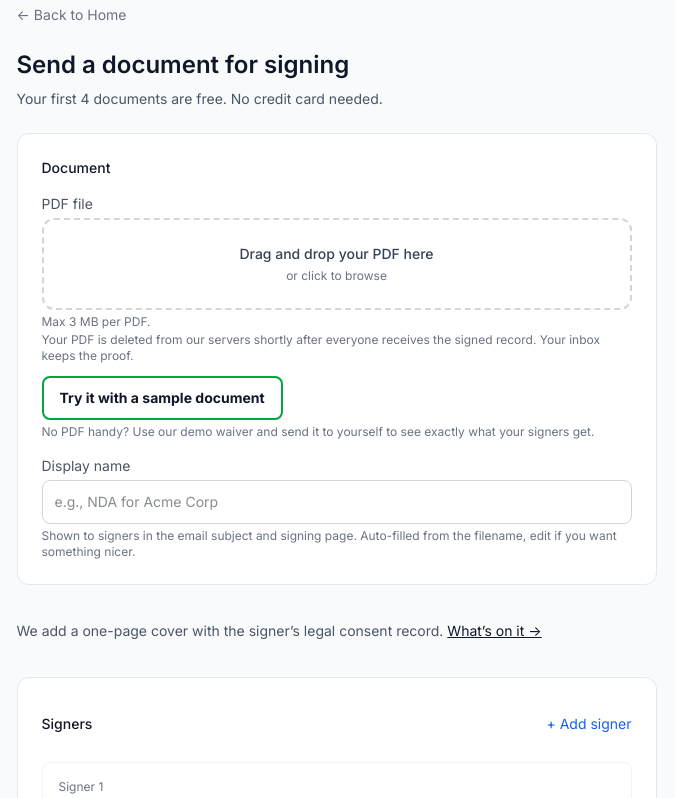
Test: CreateEnvelopePage — the sample-document path (F-44.2 / AC-262) › a failed fetch shows the standard inline error and never a dead button
(page scrolled)
Click the button "Try it with a sample document" at (162, 398), box top-left (42, 376), bottom-right (283, 420)
(page scrolled)
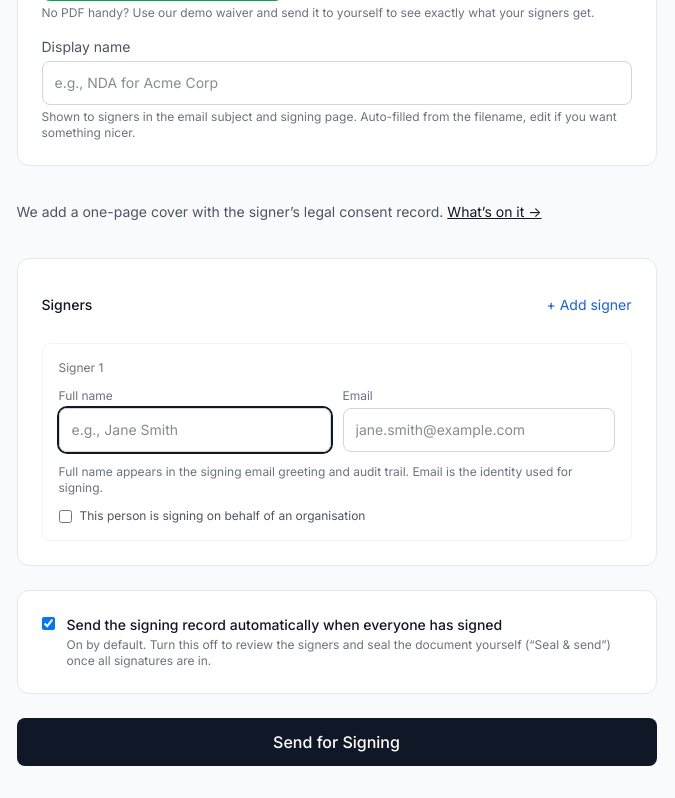
// And no file landed in state: Send still trips the upload validation.
Type "Me Myself" into the field with placeholder "e.g., Jane Smith" at (194, 430), box top-left (58, 408), bottom-right (330, 452)
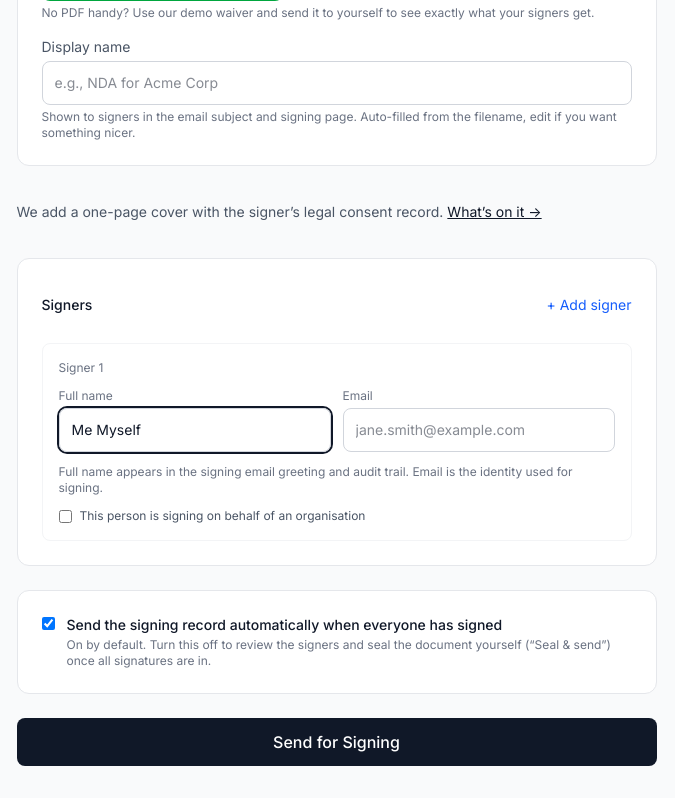
Type "me@example.com" into the field with placeholder "jane.smith@example.com" at (478, 430), box top-left (342, 408), bottom-right (614, 452)
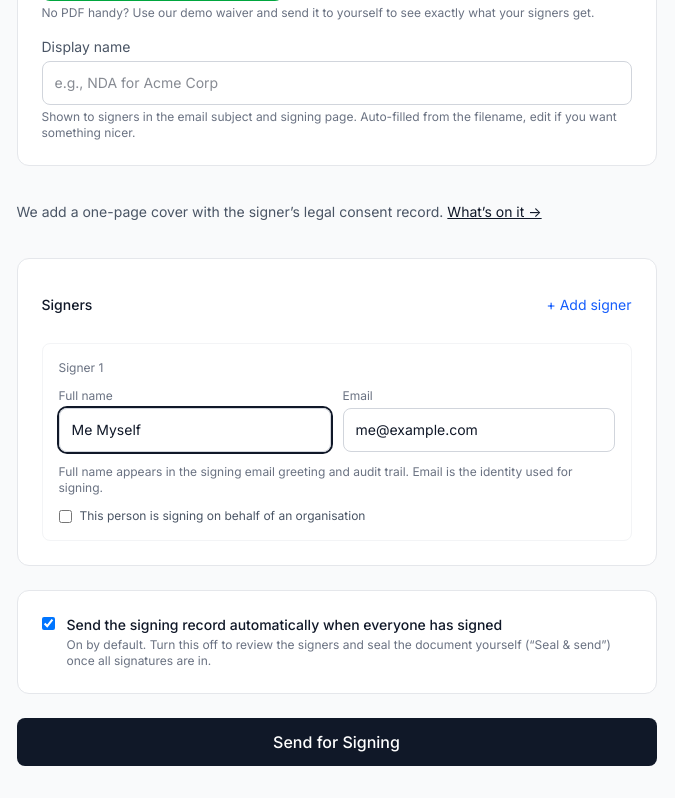
Click the button "Send for Signing" at (336, 742), box top-left (16, 718), bottom-right (656, 766)
(page scrolled)
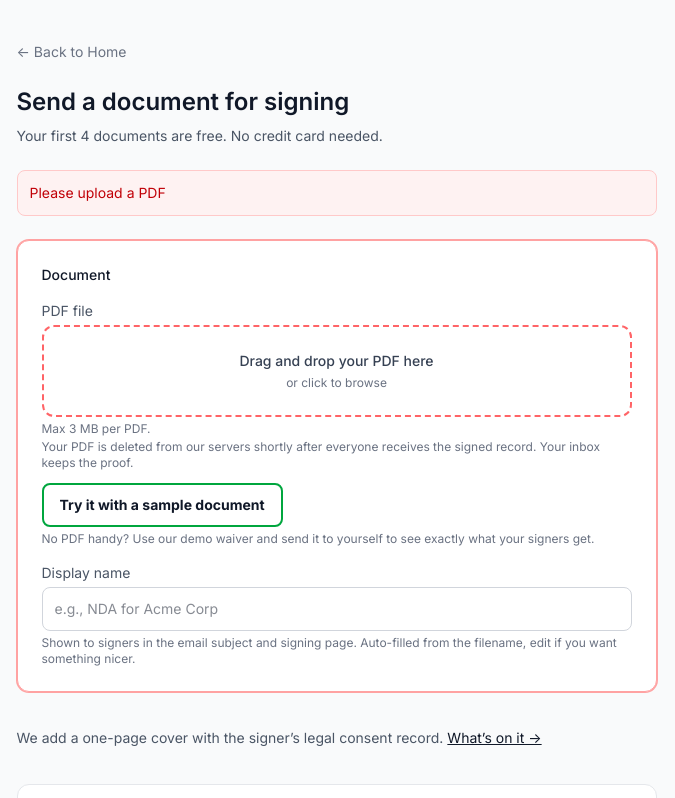
Now the text "Please upload a PDF" is shown, box top-left (16, 170), bottom-right (656, 216)
